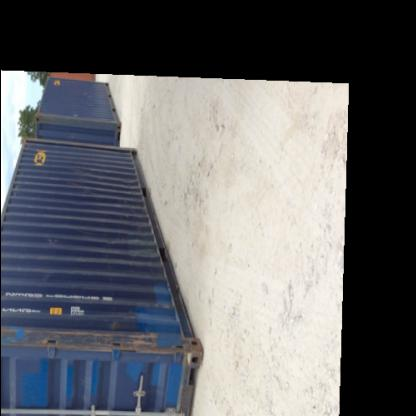Damage: (4, 326, 160, 357), (124, 224, 150, 276)
